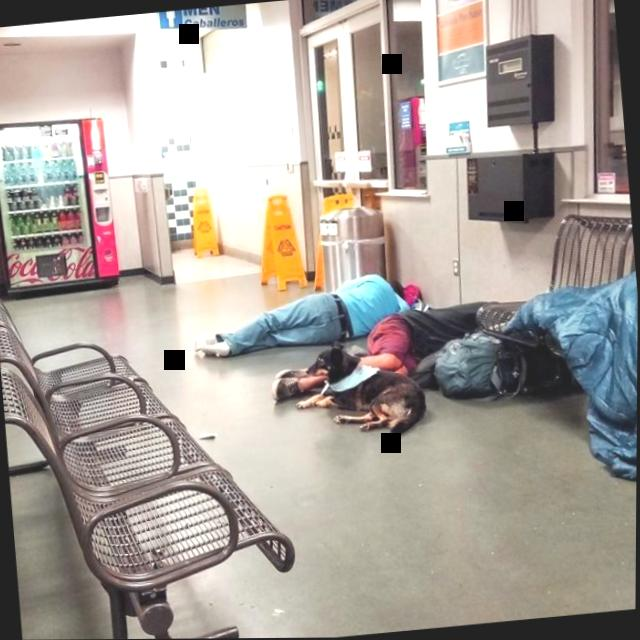Fall-Detected: (182, 244, 452, 382)
